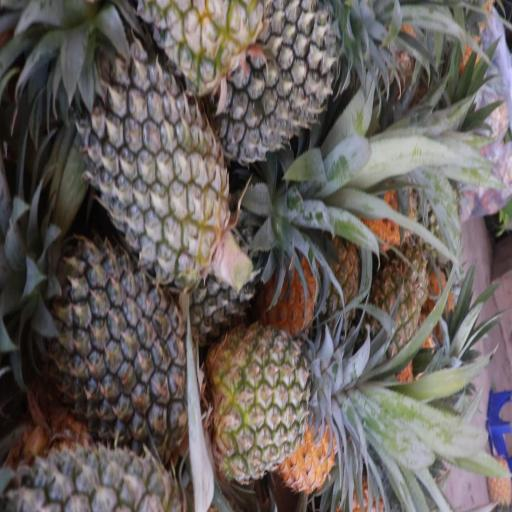------------------------------: (199, 326, 328, 486), (128, 0, 266, 117)
